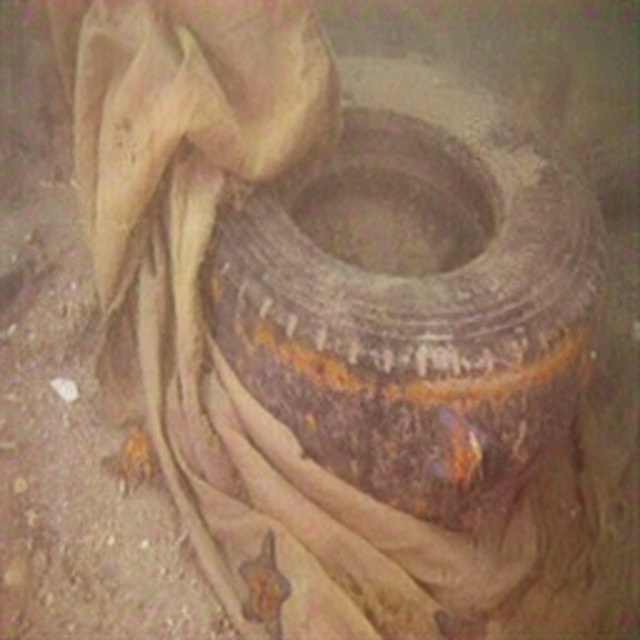mine: (198, 57, 611, 520)
